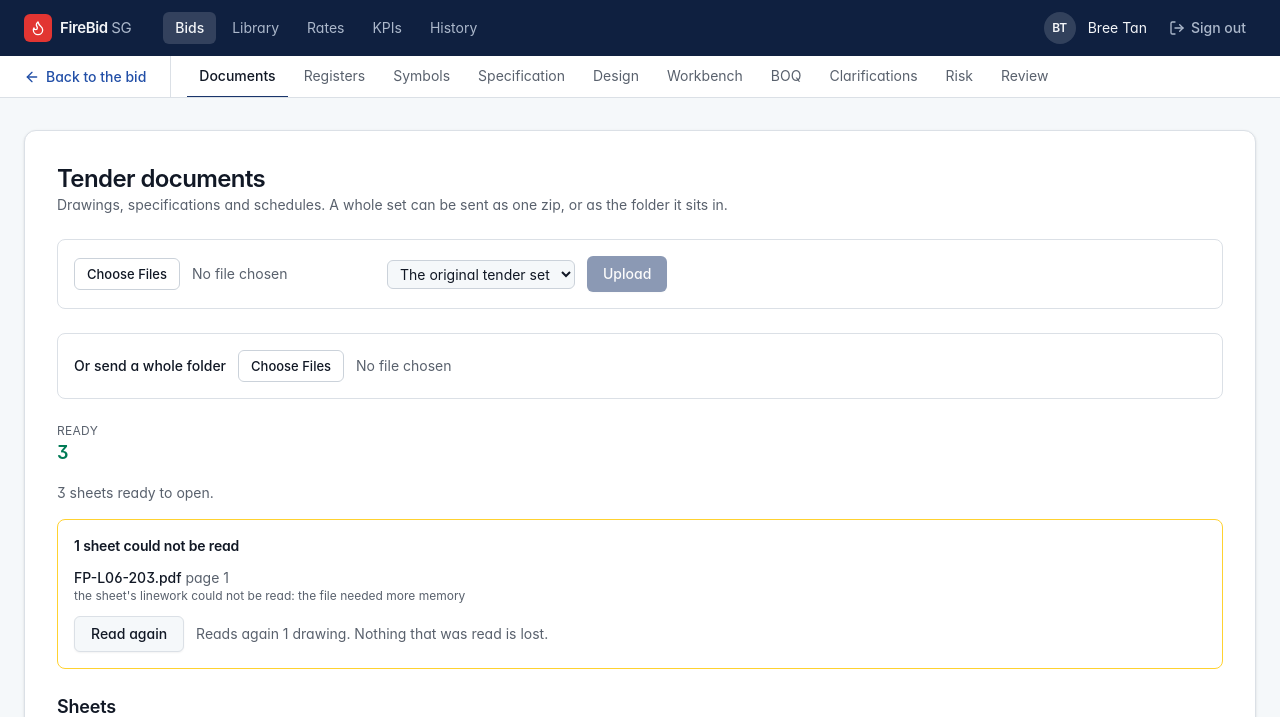
Test: the tender documents page › lists a sheet that could not be read and offers to read it again
Expected: the heading "1 sheet could not be read" is shown, [74, 537, 239, 554]
Expected: the text "FP-L06-203.pdf" is shown, [74, 569, 182, 586]
Click the button "Read again": x=129, y=634 [74, 616, 184, 652]
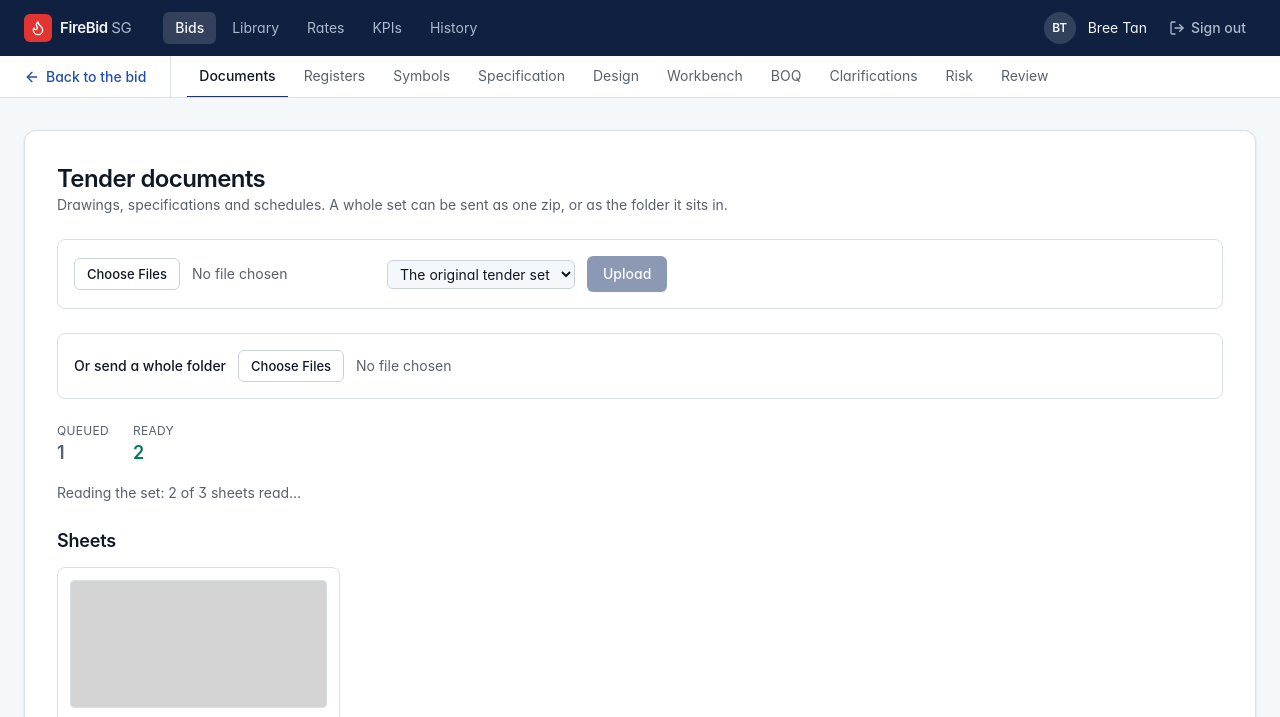
Now the text "Reading the set: 2 of 3 sheets read…" is shown, box [57, 484, 301, 501]
Now the button "Read again" is gone
